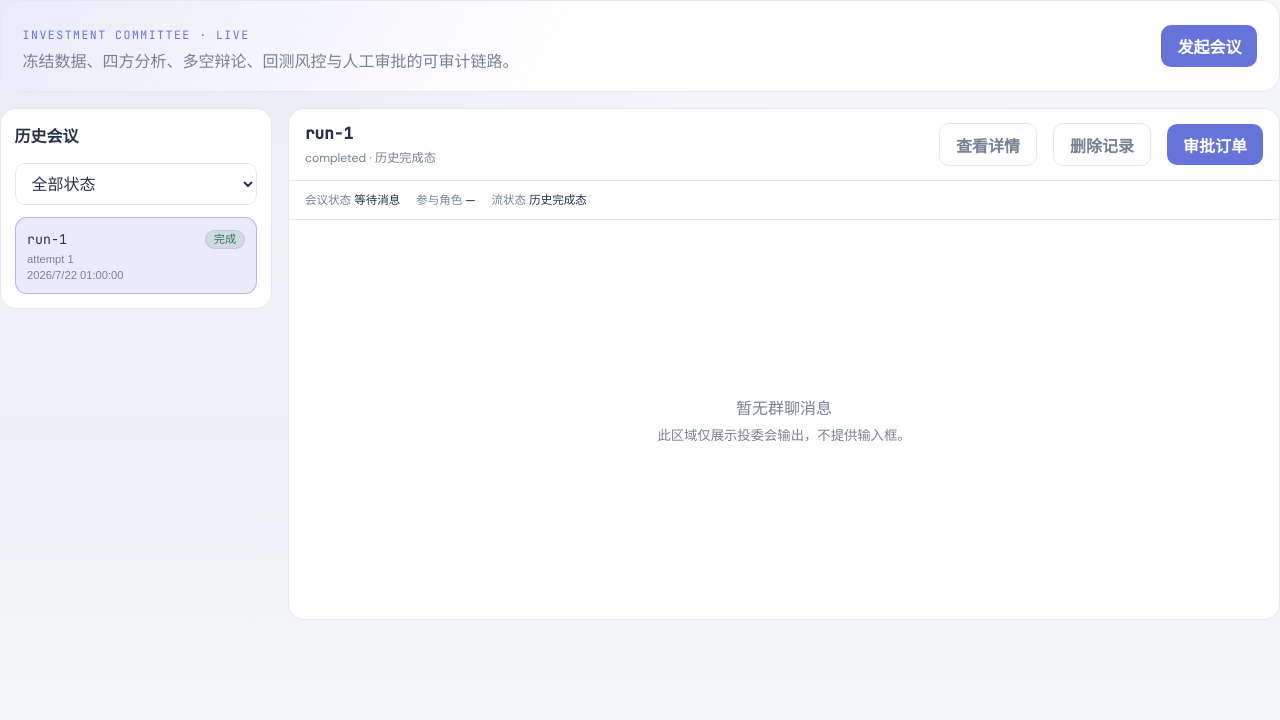
Test: CommitteePage › 删除最后一条后显示空状态
Click the button "删除记录" at (1102, 145), box [1053,123,1151,166]
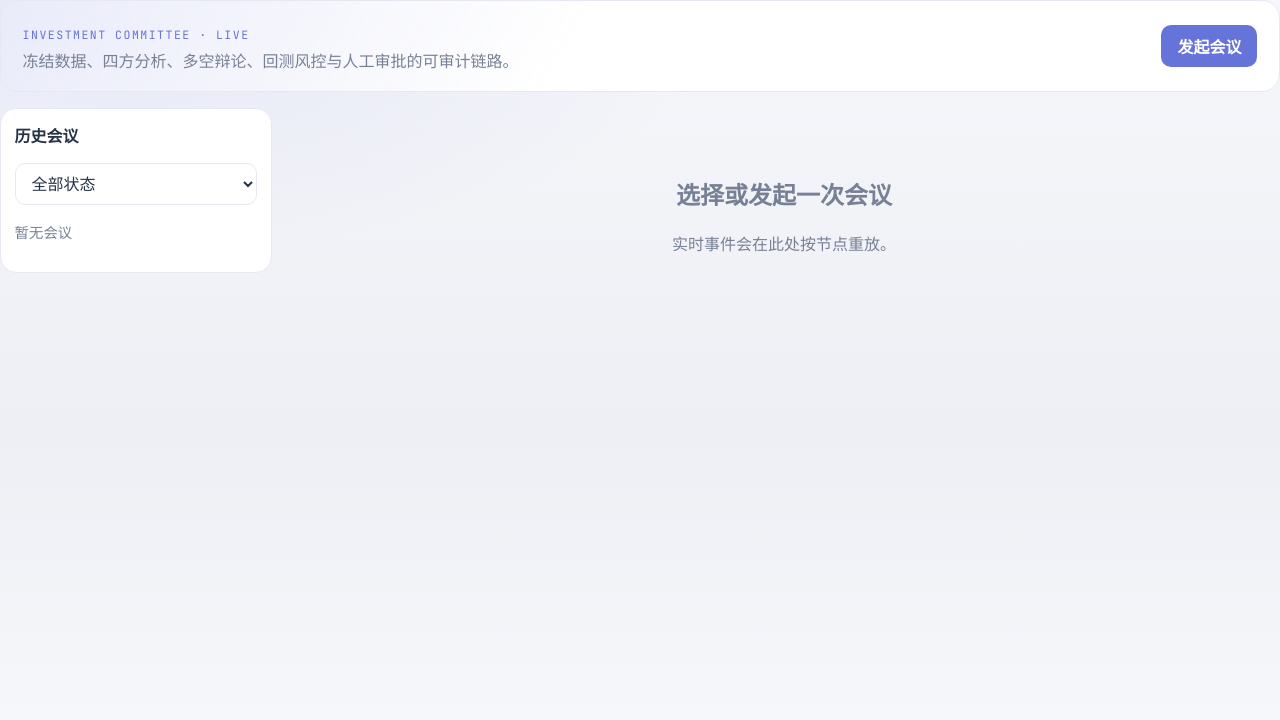
Check: the heading "选择或发起一次会议" is shown, box [676,180,892,211]
